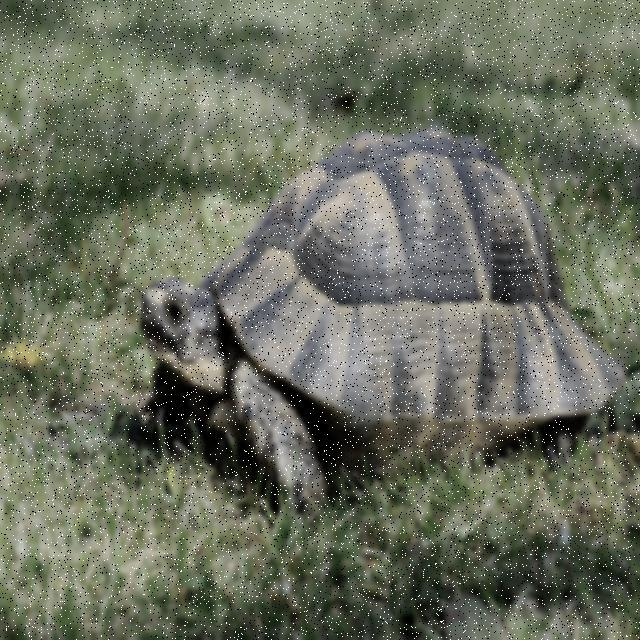tortoise: (113, 129, 627, 517)
